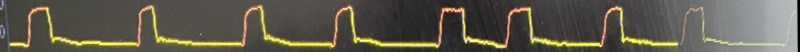normal_pressure: (0, 0, 792, 52)
